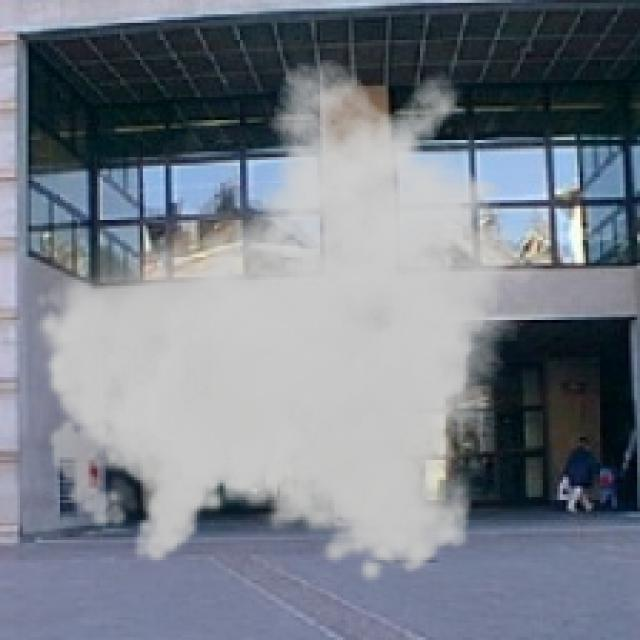smoke: (34, 57, 563, 586)
